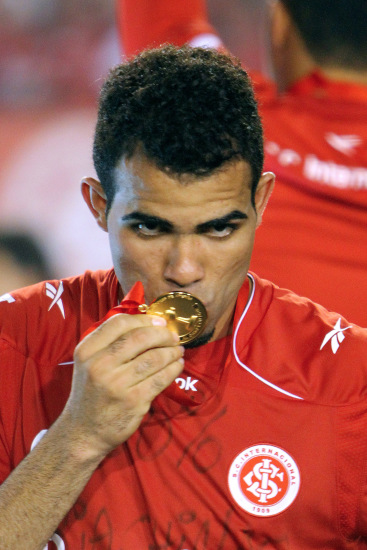face: (113, 136, 251, 340)
